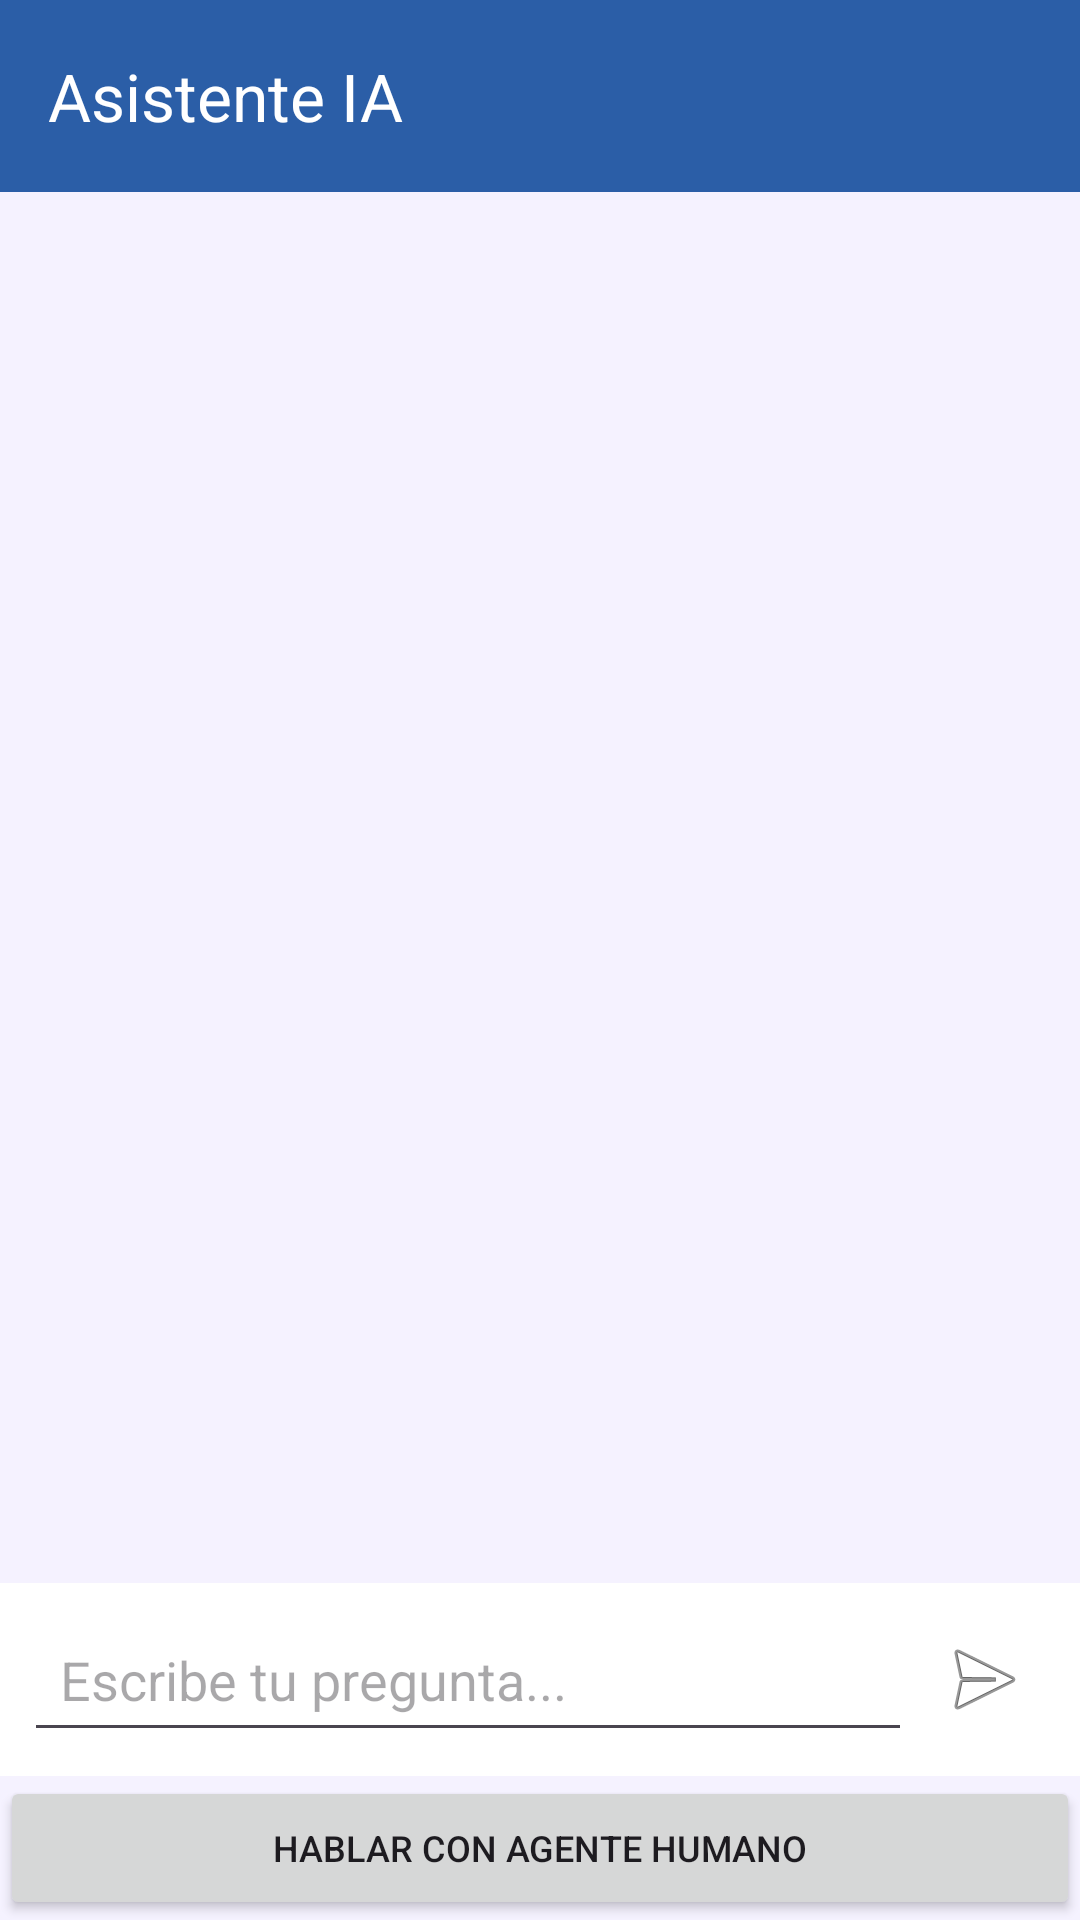

Screen size 1080 × 1920. Icon name, then its center in pixels as point (x, y):
Enviar: point (985, 1679)
